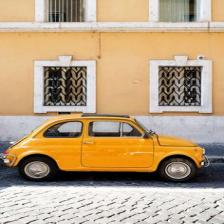yellow: (3, 115, 208, 183)
